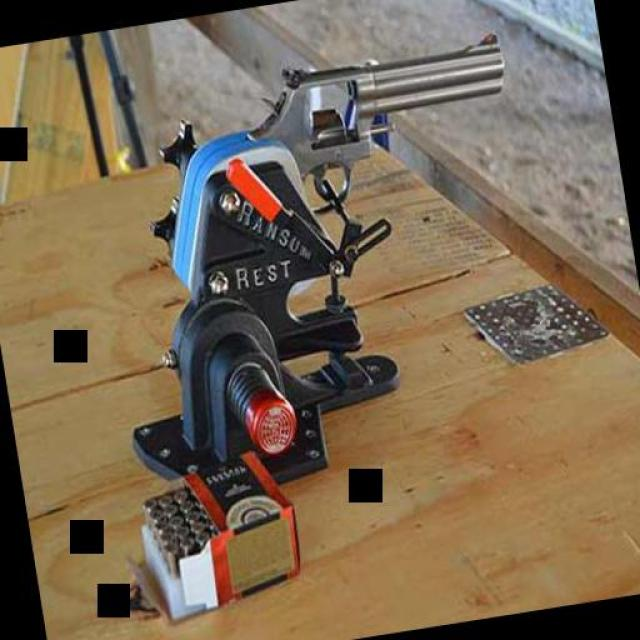gun: (228, 22, 524, 224)
